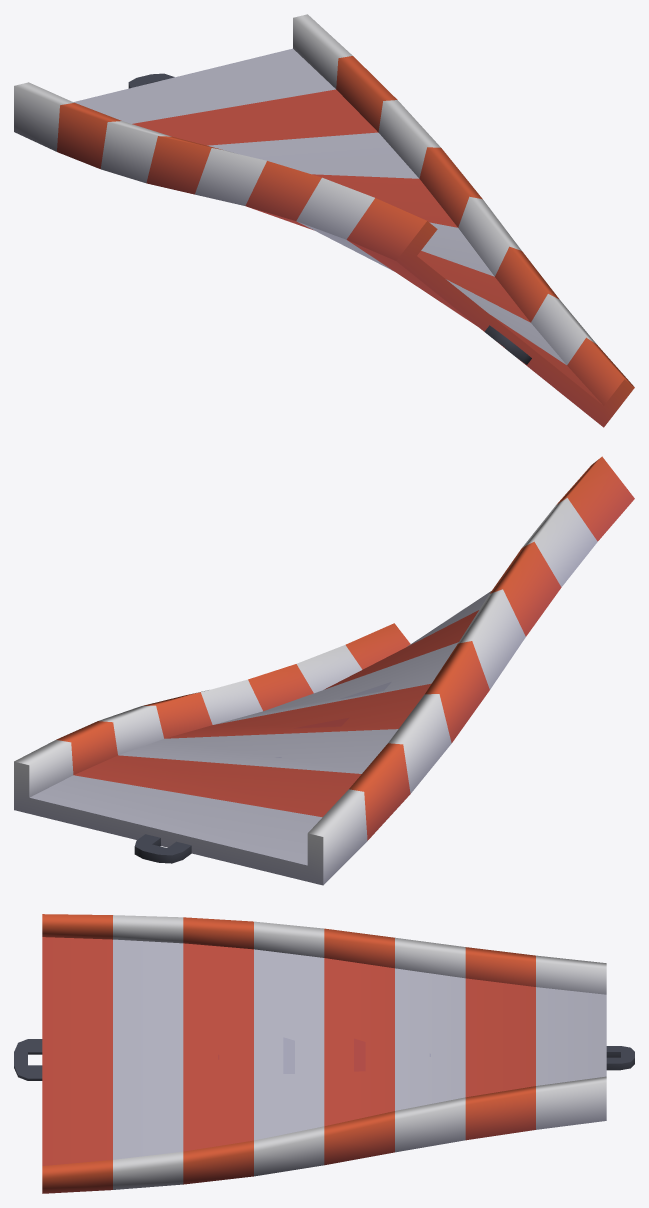
The model's file is track-striped-wide-straight-skew-left.glb.
The picture shows the model from 3 angles, top to bottom: view 1: azimuth 30°, elevation 25°; view 2: azimuth 150°, elevation 25°; view 3: azimuth 270°, elevation 25°; orthographic projection. The views are drawn at different scales.
Parts seen in each view (by area): view 1: track-striped-wide-straight-skew-left; view 2: track-striped-wide-straight-skew-left; view 3: track-striped-wide-straight-skew-left.
Part boxes in pixels (left/top/right/bottom): track-striped-wide-straight-skew-left: left=14, top=14, right=634, bottom=427; track-striped-wide-straight-skew-left: left=14, top=456, right=634, bottom=885; track-striped-wide-straight-skew-left: left=14, top=914, right=634, bottom=1193.
Size of the model in its own units: 2.04 by 1.63 by 4.4.
